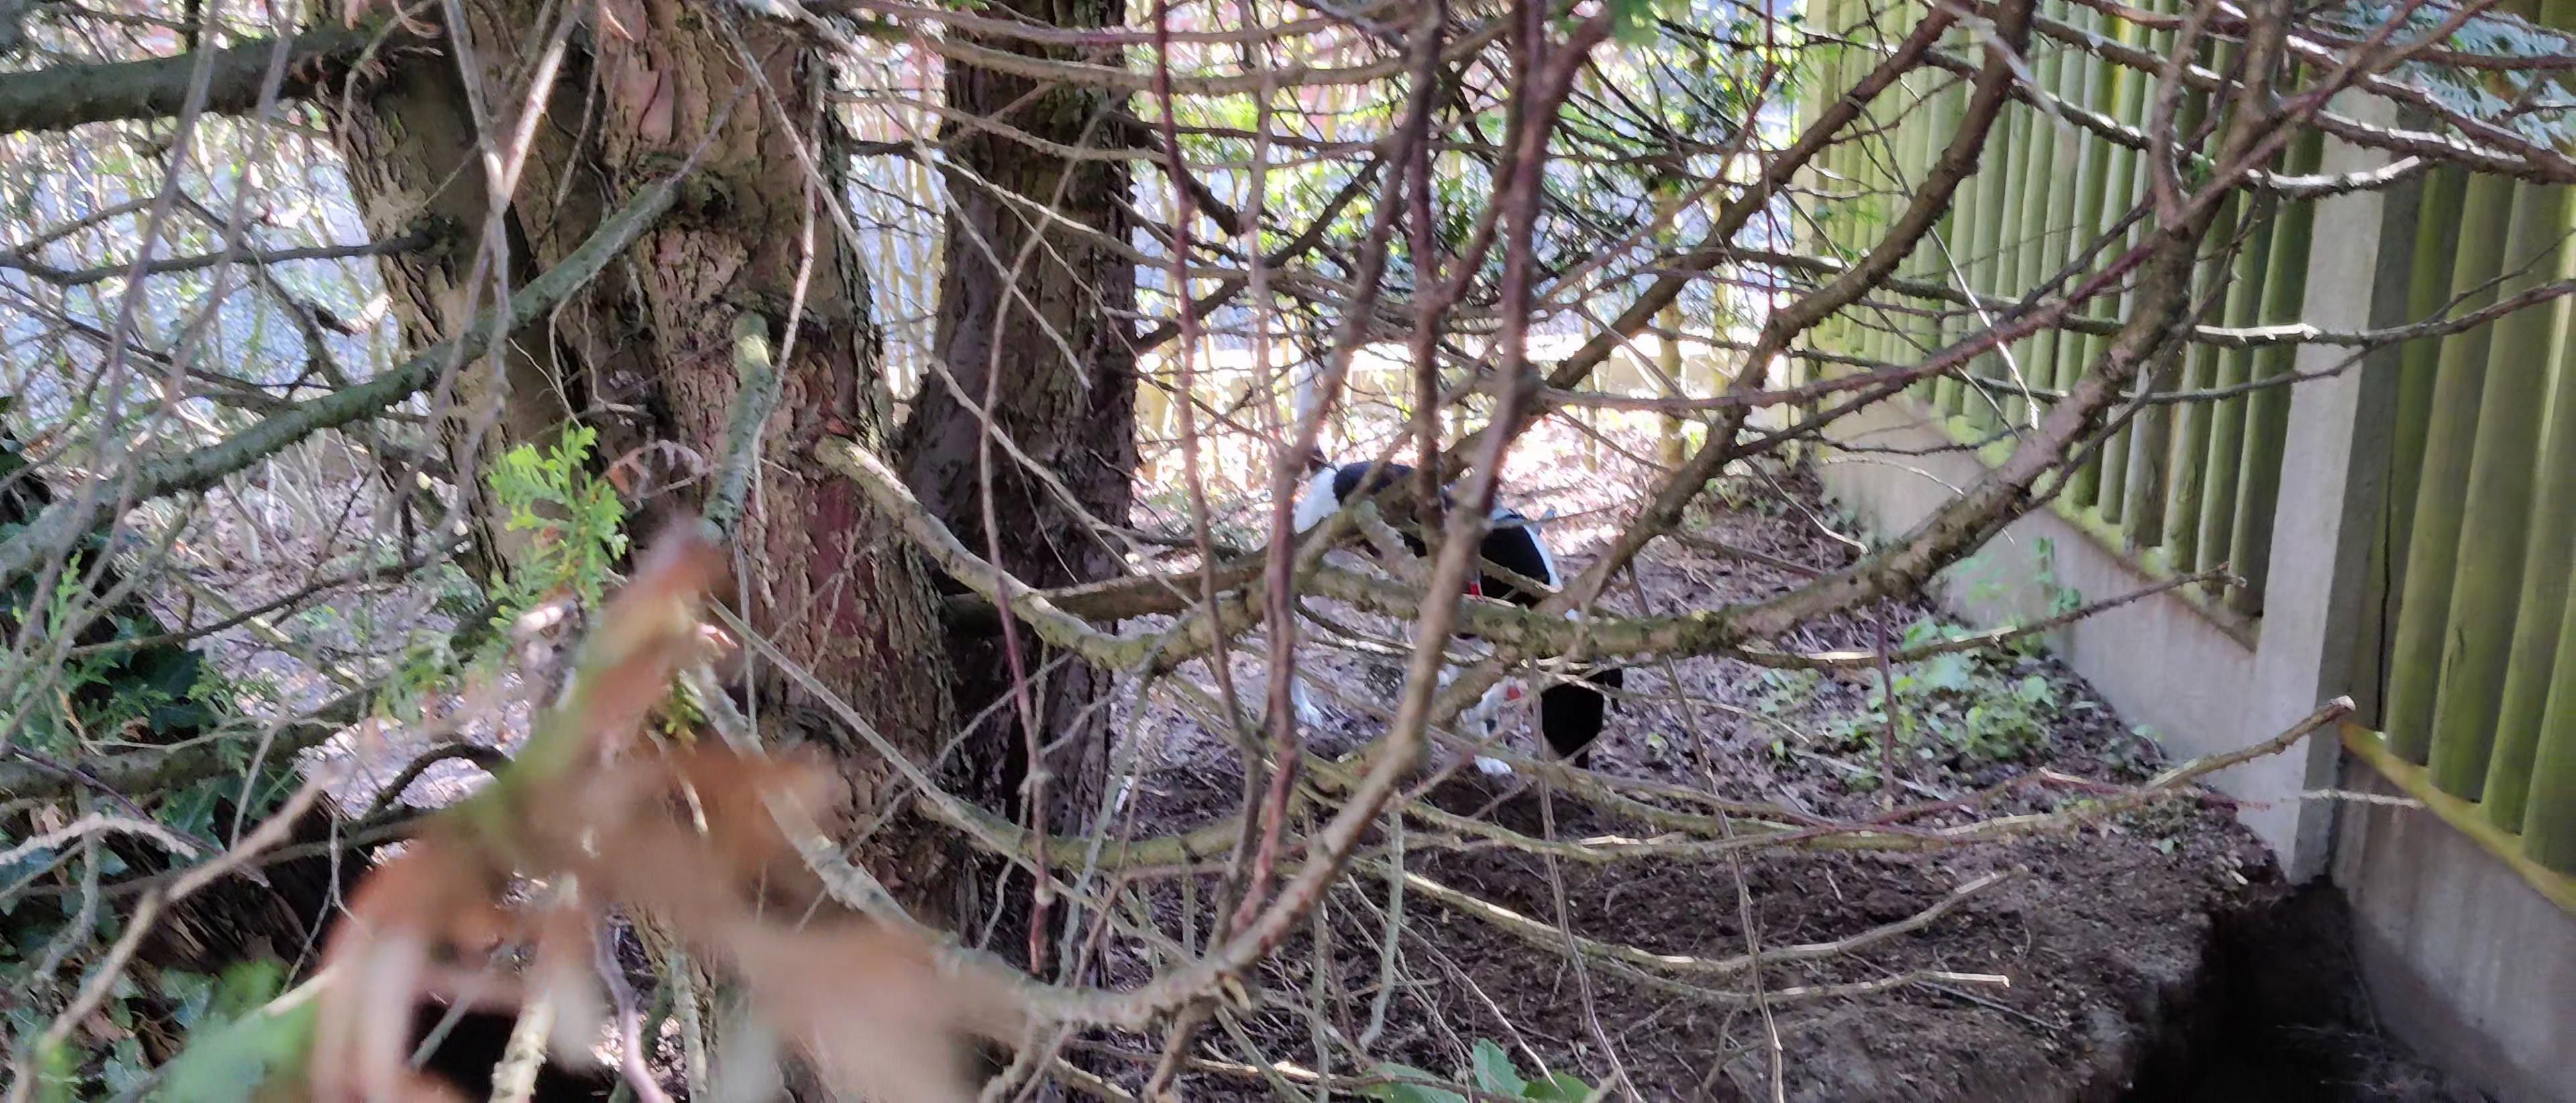Dog: (1257, 291, 1631, 815)
